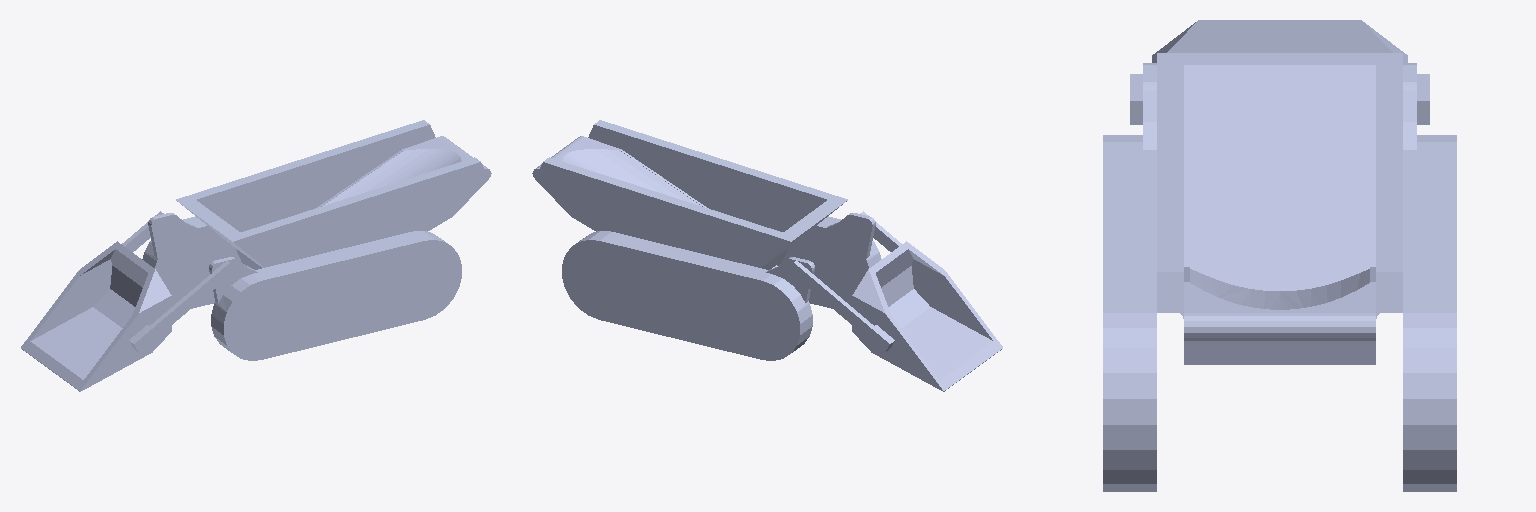
URDF robot description (URDFassy):
<?xml version="1.0" encoding="utf-8"?>
<!-- This URDF was automatically created by SolidWorks to URDF Exporter! Originally created by [author] ([email redacted]) 
     Commit Version: 1.6.0-4-g7f85cfe  Build Version: 1.6.7995.38578
     For more information, please see http://wiki.ros.org/sw_urdf_exporter -->
<robot
  name="URDFassy">
  <link
    name="Chassis">
    <inertial>
      <origin
        xyz="0.268041600725968 0.102021849345525 -6.48544629737818E-08"
        rpy="0 0 0" />
      <mass
        value="146.224560356707" />
      <inertia
        ixx="10.5200179364845"
        ixy="-1.93496024812939"
        ixz="1.65925274358814E-07"
        iyy="22.9867369537623"
        iyz="1.82289041966192E-06"
        izz="18.0208175606407" />
    </inertial>
    <visual>
      <origin
        xyz="0 0 0"
        rpy="0 0 0" />
      <geometry>
        <mesh
          filename="package://reaper_description/meshes/visual/Chassis.STL" />
      </geometry>
      <material
        name="">
        <color
          rgba="0.792156862745098 0.819607843137255 0.933333333333333 1" />
      </material>
    </visual>
    <collision>
      <origin
        xyz="0 0 0"
        rpy="0 0 0" />
      <geometry>
        <mesh
          filename="package://reaper_description/meshes/visual/Chassis.STL" />
      </geometry>
    </collision>
  </link>
  <link
    name="Linkage">
    <inertial>
      <origin
        xyz="-0.163261636855882 -0.165382057279213 5.27223021939055E-17"
        rpy="0 0 0" />
      <mass
        value="1.57934542654535" />
      <inertia
        ixx="0.0206926077974767"
        ixy="-0.0199107734055339"
        ixz="-3.58706485090842E-19"
        iyy="0.0202092785023025"
        iyz="-1.26737522063389E-19"
        izz="0.0404826417999642" />
    </inertial>
    <visual>
      <origin
        xyz="0 0 0"
        rpy="0 0 0" />
      <geometry>
        <mesh
          filename="package://reaper_description/meshes/visual/Linkage.STL" />
      </geometry>
      <material
        name="">
        <color
          rgba="0.792156862745098 0.819607843137255 0.933333333333333 1" />
      </material>
    </visual>
    <collision>
      <origin
        xyz="0 0 0"
        rpy="0 0 0" />
      <geometry>
        <mesh
          filename="package://reaper_description/meshes/visual/Linkage.STL" />
      </geometry>
    </collision>
  </link>
  <joint
    name="Linkage"
    type="revolute">
    <origin
      xyz="-0.33975 0 0.23217"
      rpy="1.5708 0.26832 0" />
    <parent
      link="Chassis" />
    <child
      link="Linkage" />
    <axis
      xyz="0 0 1" />
    <limit
      lower="0"
      upper="0"
      effort="0"
      velocity="0" />
  </joint>
  <link
    name="Bucket">
    <inertial>
      <origin
        xyz="-0.00221313093485331 -0.0160077237789516 -6.72159216717413E-16"
        rpy="0 0 0" />
      <mass
        value="10.7696762355229" />
      <inertia
        ixx="0.352455755561628"
        ixy="-0.0833393361479293"
        ixz="-4.80945718975859E-17"
        iyy="0.508758902375544"
        iyz="4.84925708785236E-17"
        izz="0.288540549981325" />
    </inertial>
    <visual>
      <origin
        xyz="0 0 0"
        rpy="0 0 0" />
      <geometry>
        <mesh
          filename="package://reaper_description/meshes/visual/Bucket.STL" />
      </geometry>
      <material
        name="">
        <color
          rgba="0.792156862745098 0.819607843137255 0.933333333333333 1" />
      </material>
    </visual>
    <collision>
      <origin
        xyz="0 0 0"
        rpy="0 0 0" />
      <geometry>
        <mesh
          filename="package://reaper_description/meshes/visual/Bucket.STL" />
      </geometry>
    </collision>
  </link>
  <joint
    name="Bucket"
    type="revolute">
    <origin
      xyz="-0.29504 -0.29876 0"
      rpy="0 0 0.5499" />
    <parent
      link="Linkage" />
    <child
      link="Bucket" />
    <axis
      xyz="0 0 1" />
    <limit
      lower="0"
      upper="0"
      effort="0"
      velocity="0" />
  </joint>
</robot>

--- Render facts (derived) ---
Views: 3 orthographic renders of the robot side by side, from view 1: azimuth 30°, elevation 25°; view 2: azimuth 150°, elevation 25°; view 3: azimuth 270°, elevation 25°.
Model URDFassy with 3 links and 2 joints (2 revolute), rooted at Chassis, posed every joint at zero.
Links seen in each view (by area): view 1: Chassis, Bucket, Linkage; view 2: Chassis, Bucket, Linkage; view 3: Chassis, Bucket, Linkage.
Link boxes in pixels (x1=…): Chassis: x1=142, y1=120, x2=491, y2=360; Bucket: x1=21, y1=241, x2=173, y2=391; Linkage: x1=81, y1=211, x2=235, y2=352; Chassis: x1=532, y1=120, x2=881, y2=360; Bucket: x1=850, y1=241, x2=1002, y2=391; Linkage: x1=788, y1=211, x2=942, y2=352; Chassis: x1=1103, y1=53, x2=1456, y2=491; Bucket: x1=1152, y1=20, x2=1407, y2=62; Linkage: x1=1130, y1=74, x2=1429, y2=124.
Size in the robot's own frame: 1.96 by 0.6677 by 0.5911 metres.
Meshes: 3 distinct files referenced, 3 mesh visuals loaded (3 binary STL).